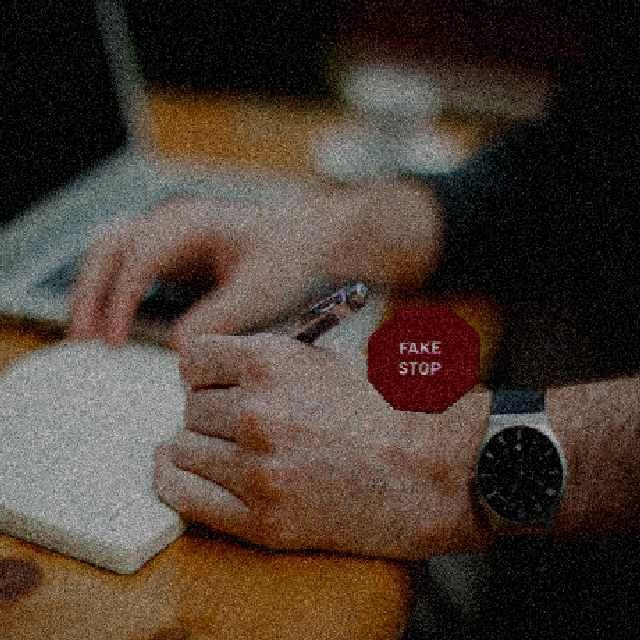FAKE_STOP: (364, 303, 479, 412)
